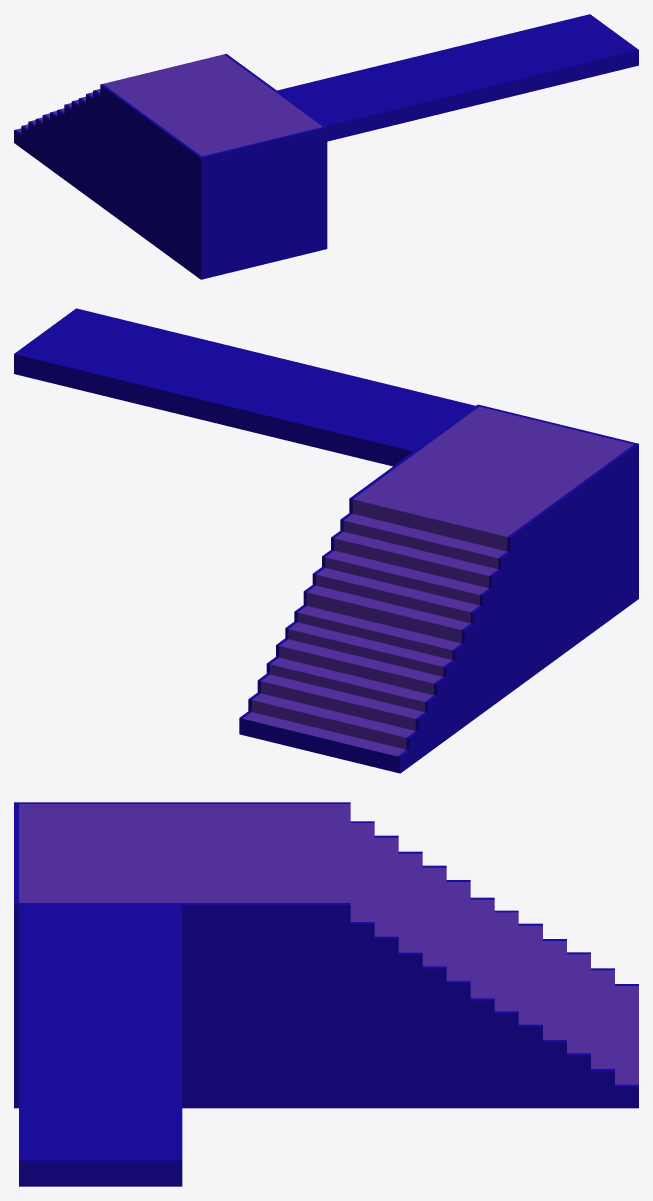
Rendered from Stairs.fbx.
3 renders of one model, top to bottom at view 1: azimuth 30°, elevation 25°; view 2: azimuth 150°, elevation 25°; view 3: azimuth 270°, elevation 25°, orthographic. The views are drawn at different scales.
Visible parts, largest first — view 1: Stairs, Stairs_floor; view 2: Stairs, Stairs_floor; view 3: Stairs, Stairs_floor.
Boxes of the visible parts, x1,y1,x2,y2 form: Stairs: [14, 14, 638, 279]; Stairs_floor: [16, 54, 322, 156]; Stairs: [14, 308, 638, 773]; Stairs_floor: [243, 406, 633, 756]; Stairs: [14, 802, 638, 1186]; Stairs_floor: [19, 804, 638, 1084].
Bounding box in the file's own units: 38.5 × 10.18 × 28.38.
